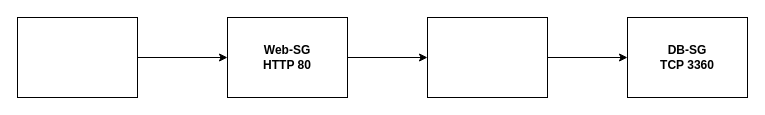
Some shapes in this 765 by 115 pixel diagram are drawn without their labels. The shapes that lost their labels are listed below. From the top down, each one's centre as x and y in pixels, then its label:
the point at 77,57: LB-SG HTTP 80
the point at 487,57: App-SG TCP 5000
